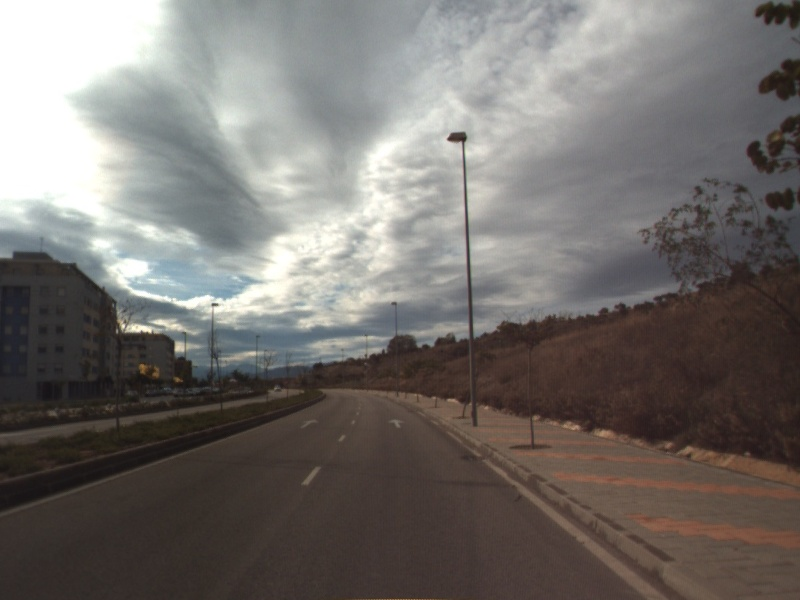STRAIGHT: (298, 417, 320, 430), (387, 417, 408, 429)
